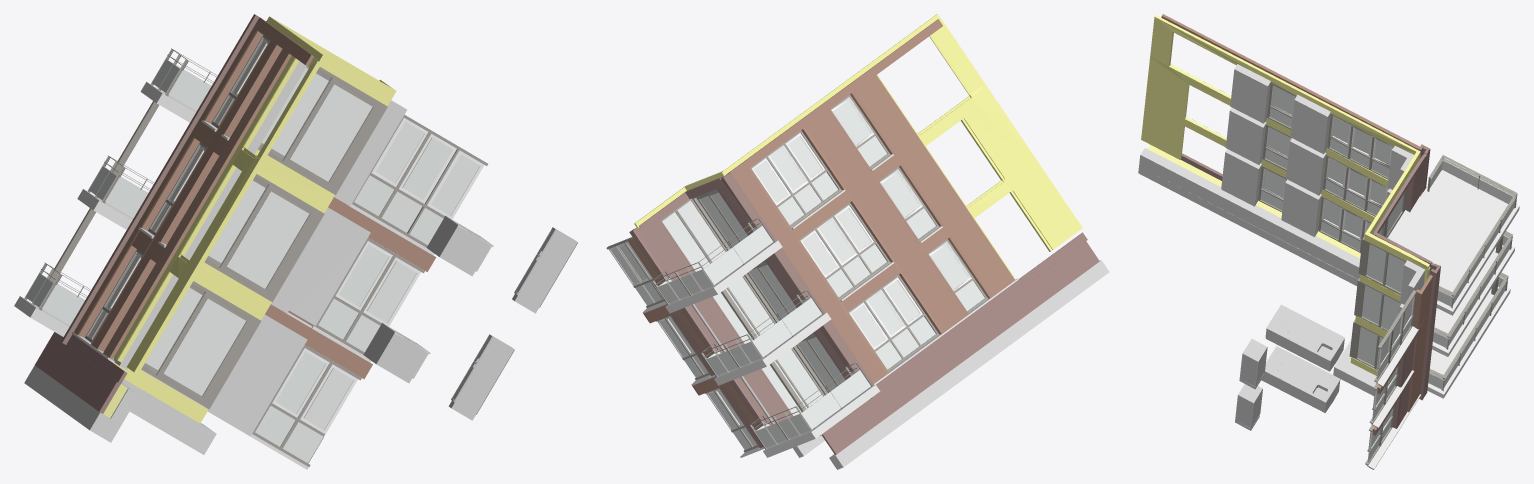
3 renders of one model, left to right at view 1: azimuth 30°, elevation 25°; view 2: azimuth 150°, elevation 25°; view 3: azimuth 270°, elevation 25°, orthographic. The views are drawn at different scales.
Parts seen in each view (by area): view 1: mesh; view 2: mesh; view 3: mesh.
Boxes of the visible parts, box(x1,y1,x2,y2) form: mesh: box(14, 14, 577, 469); mesh: box(606, 14, 1109, 469); mesh: box(1138, 14, 1519, 469).
Size of the model in its own units: 15.62 by 14.76 by 12.51.
